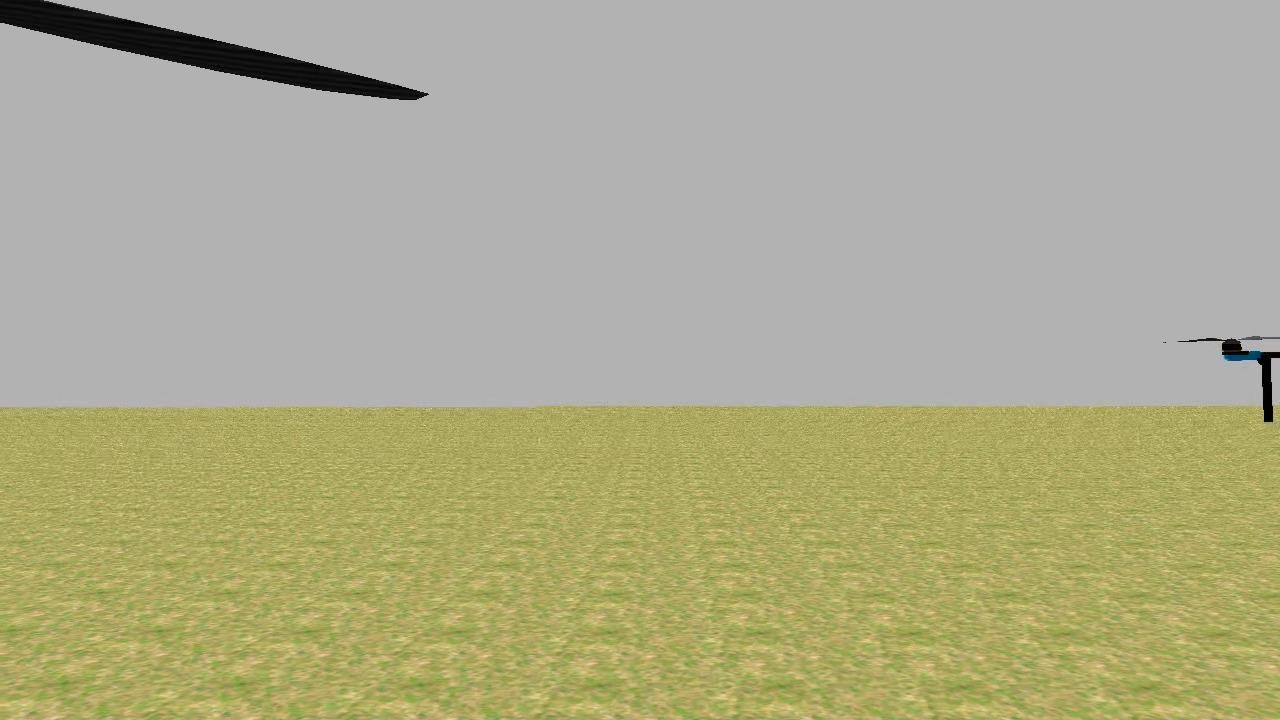UAV: (1158, 314, 1280, 454)
